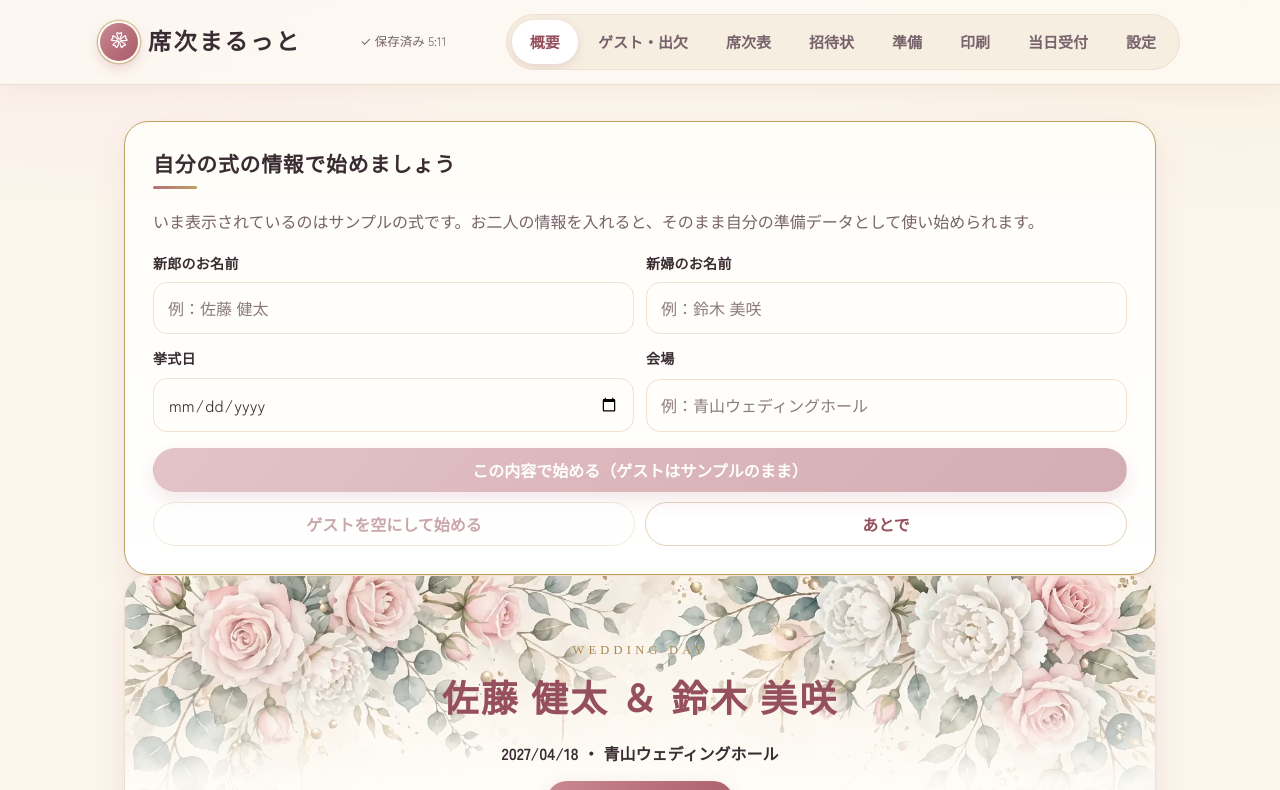
Test: 確認UIと元に戻す › 初期化もページ内確認を経る
Click the tab "設定".
click(1141, 42)  # box [1108, 20, 1174, 64]
(page scrolled)
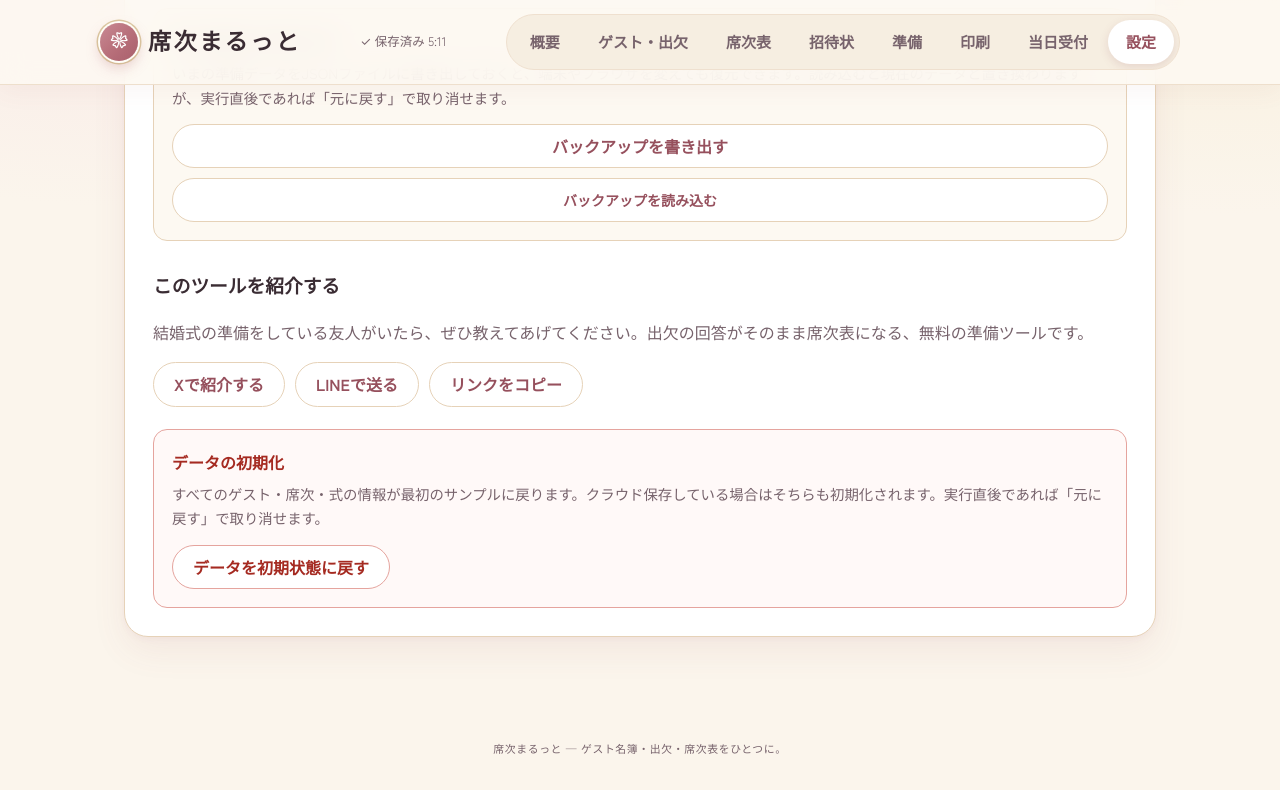
Click the button "データを初期状態に戻す".
click(281, 567)  # box [172, 545, 390, 589]
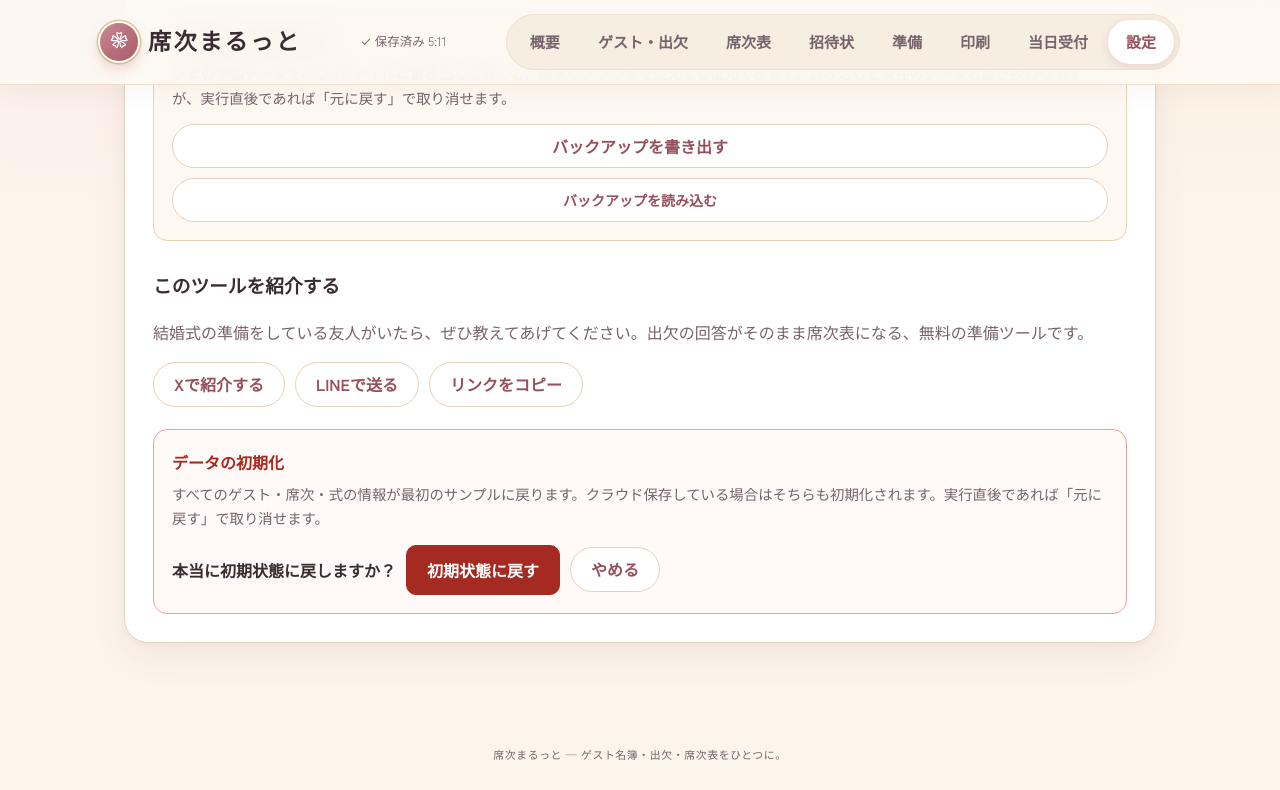
Check: the text "本当に初期状態に戻しますか？" is shown, box [172, 556, 396, 584]
Click the button "やめる".
click(615, 570)  # box [570, 547, 660, 592]
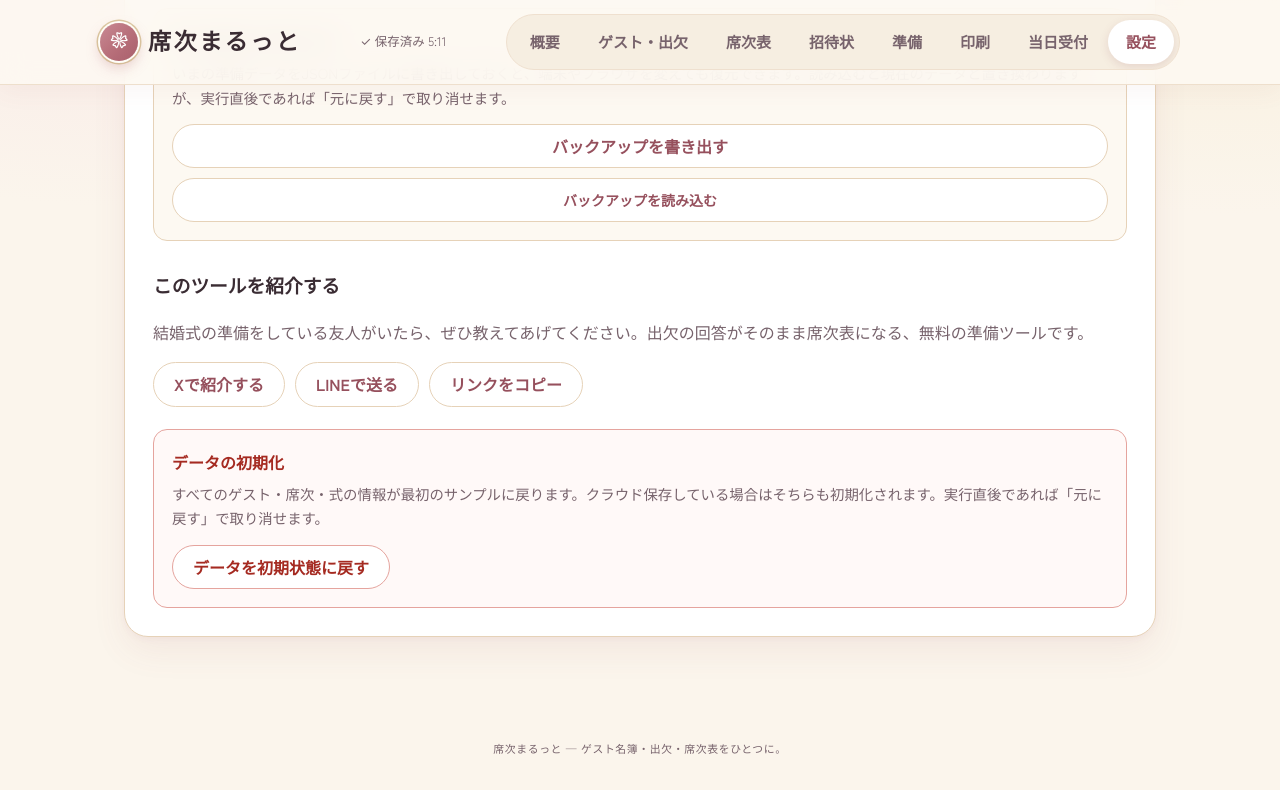
Check: the text "本当に初期状態に戻しますか？" is gone
